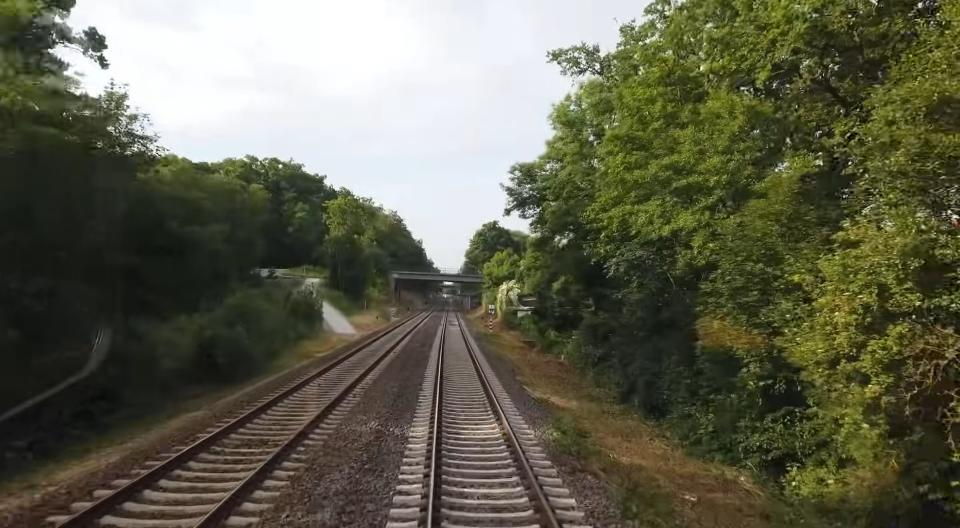Plant: (608, 473, 685, 528), (543, 412, 608, 475)
